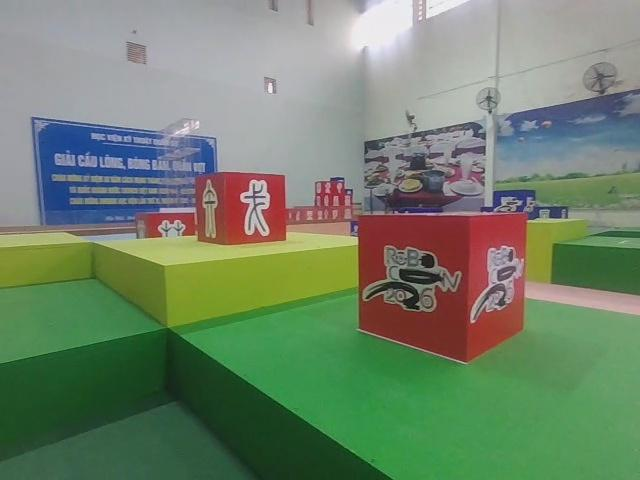R1: (354, 209, 530, 365)
R2 Fake: (191, 168, 290, 248)
